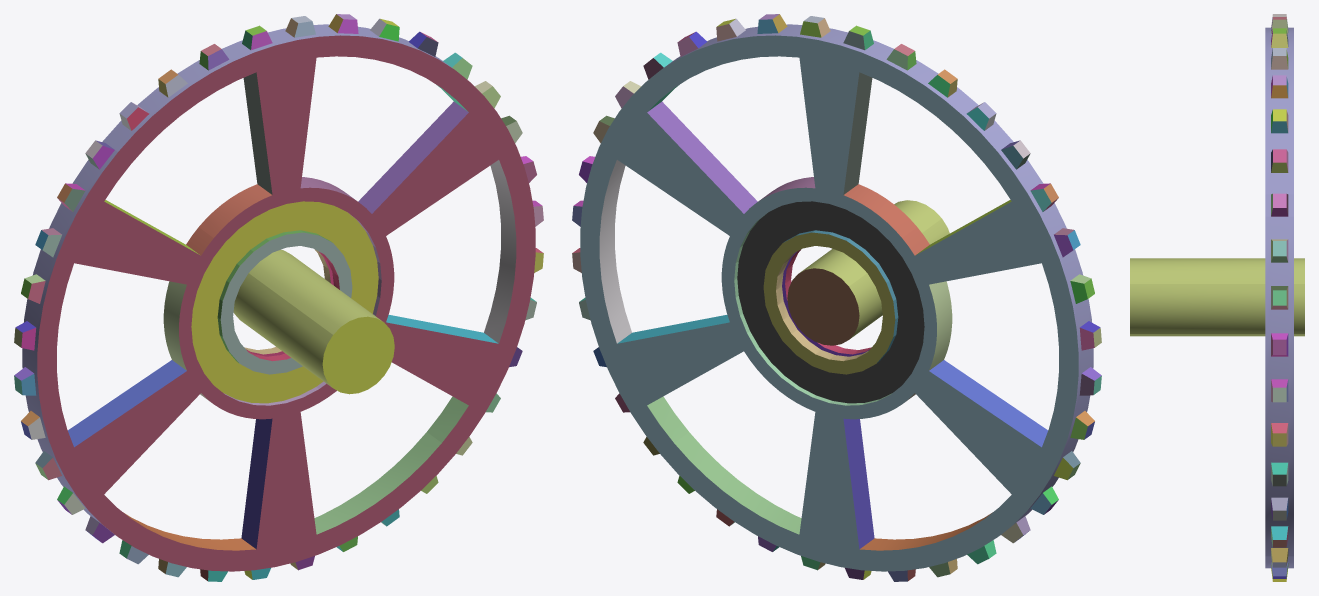
Rendered from module-timer-01.glb.
The picture shows the model from 3 angles, left to right: view 1: azimuth 30°, elevation 25°; view 2: azimuth 150°, elevation 25°; view 3: azimuth 270°, elevation 25°; orthographic projection. The views are drawn at different scales.
Bounding box in the file's own units: 1.99 × 1.99 × 0.6137.
